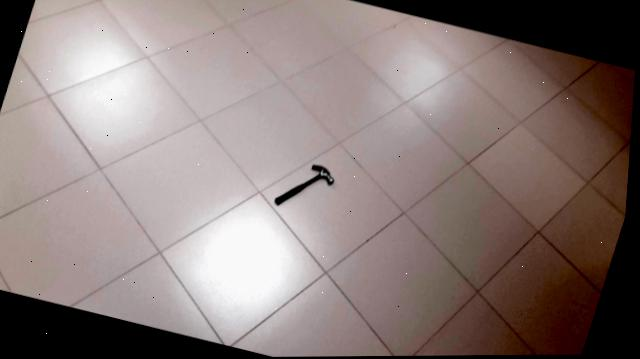hammer: (273, 153, 342, 222)
